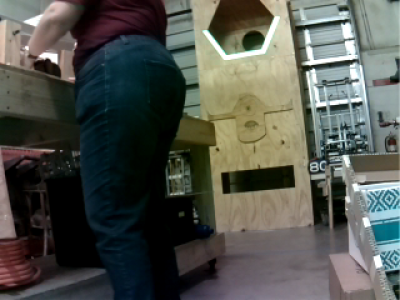target: (201, 16, 280, 60)
